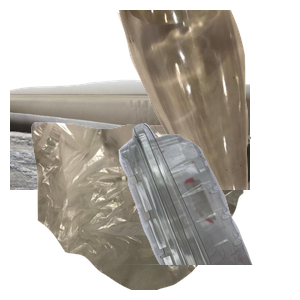glass: (115, 10, 300, 190)
paper: (10, 77, 250, 257)
plastic: (71, 120, 300, 300)
trash: (29, 120, 265, 300)
